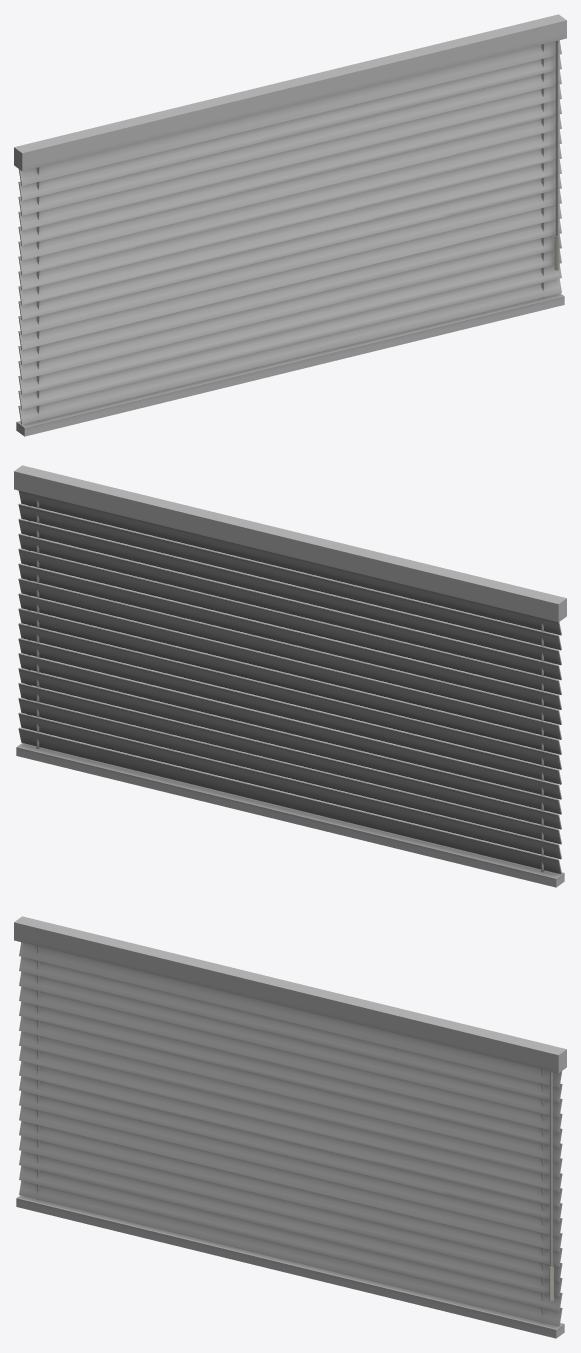
Rendered from sb_obj_ModernCity049_blind_d.fbx.
3 views of the same model, one above another, from view 1: azimuth 30°, elevation 25°; view 2: azimuth 150°, elevation 25°; view 3: azimuth 330°, elevation 25° (orthographic).
Parts seen in each view (by area): view 1: sb_obj_ModernCity049_blind_d; view 2: sb_obj_ModernCity049_blind_d; view 3: sb_obj_ModernCity049_blind_d.
Boxes of the visible parts, <box> form: sb_obj_ModernCity049_blind_d: <box>14,14,566,436</box>; sb_obj_ModernCity049_blind_d: <box>14,465,566,887</box>; sb_obj_ModernCity049_blind_d: <box>14,916,566,1338</box>.
Bounding box in the file's own units: 1.53 × 0.7609 × 0.04.
1 material, 1 textured.
